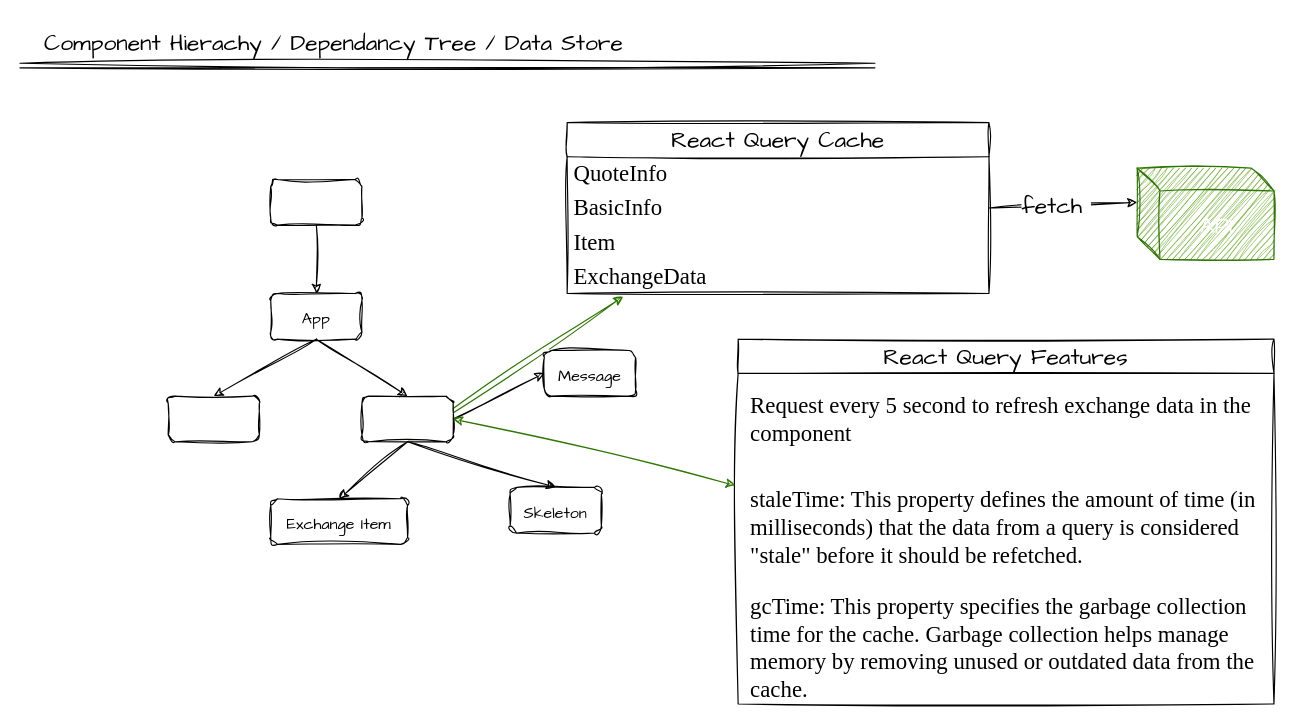
Image size: 1294x724. Some labels were removed from this diagram. Each missing label, with the box of its shape:
Exchange: (361, 395, 453, 442)
Main: (270, 178, 362, 225)
Skip links: (167, 395, 259, 442)
